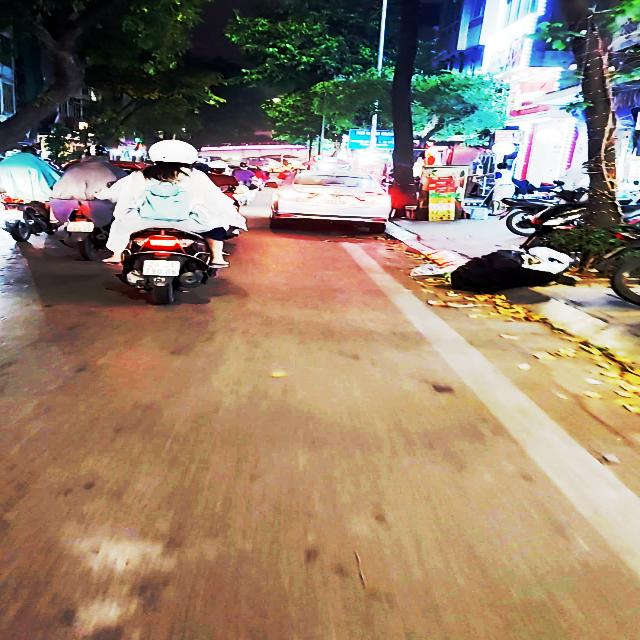license_plate: (138, 261, 184, 279), (325, 194, 351, 207)
